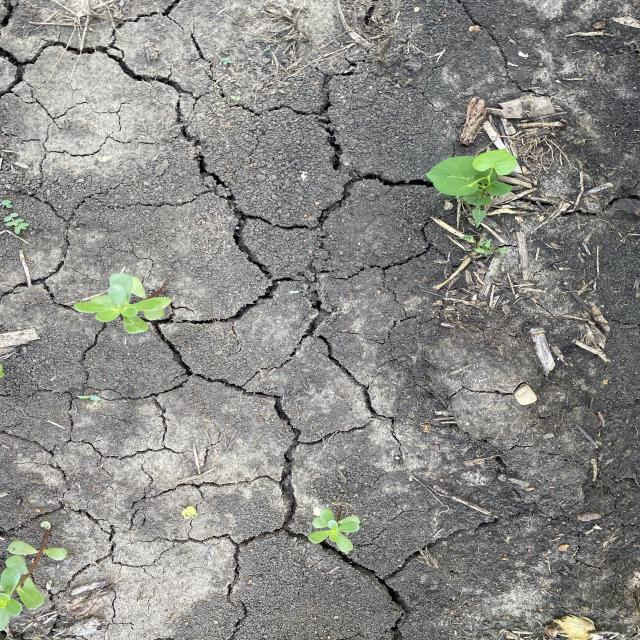MorningGlory: (423, 147, 527, 260)
Purslane: (0, 523, 70, 631), (71, 269, 176, 337), (304, 502, 363, 554)
SpottedSpurge: (1, 199, 31, 235)
